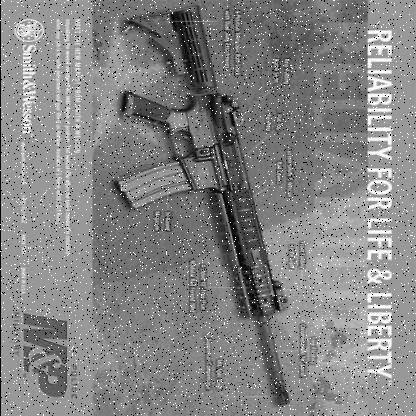rifle: (120, 0, 317, 397)
